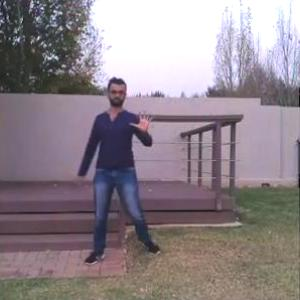follow_hand: (129, 104, 160, 135)
